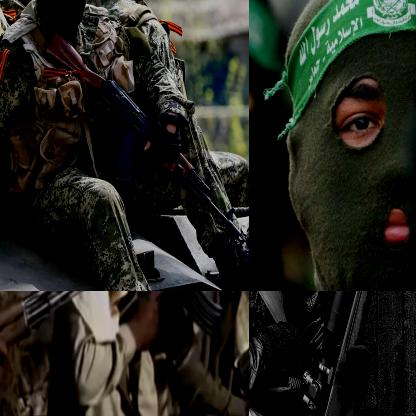rifle: (40, 29, 248, 245), (291, 291, 415, 415), (0, 291, 97, 415), (114, 291, 248, 339)
